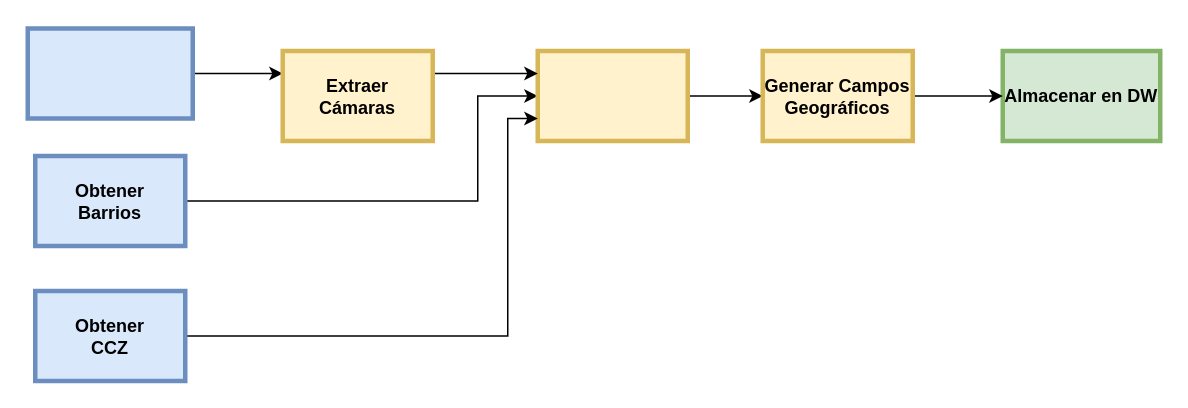
The diagram is 1188 pixels wide and 408 high, and some of its shapes have lost their labels. The centre of each missing label's shape, as x and y in pixels:
"Consolidar Datos" goes at (x=612, y=95).
"Obtener Conteo Vehicular" goes at (x=109, y=73).
